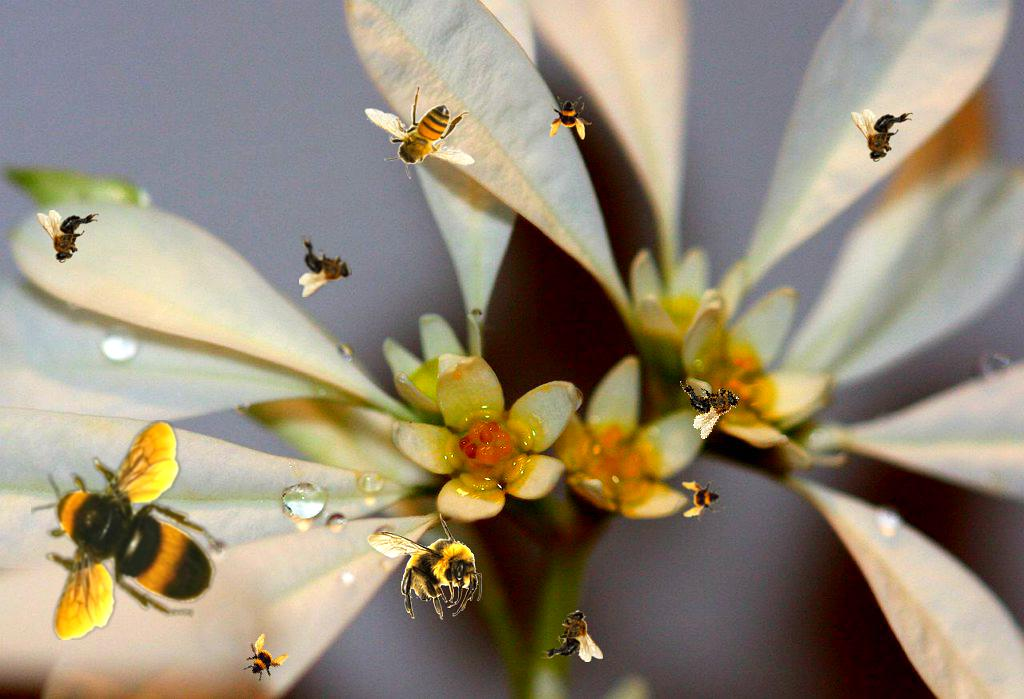Bee: (31, 420, 222, 640), (367, 513, 482, 620), (364, 85, 475, 179), (676, 363, 749, 441), (231, 628, 293, 690), (299, 235, 352, 297), (37, 210, 99, 263), (541, 609, 603, 662), (851, 109, 913, 162), (678, 475, 728, 525), (548, 96, 592, 140)
